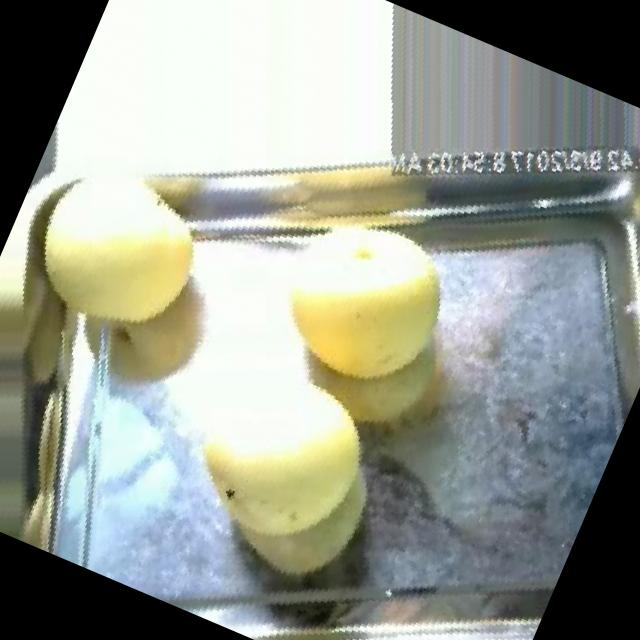Fruit: (137, 341, 433, 622), (240, 196, 490, 431), (0, 145, 239, 384)
